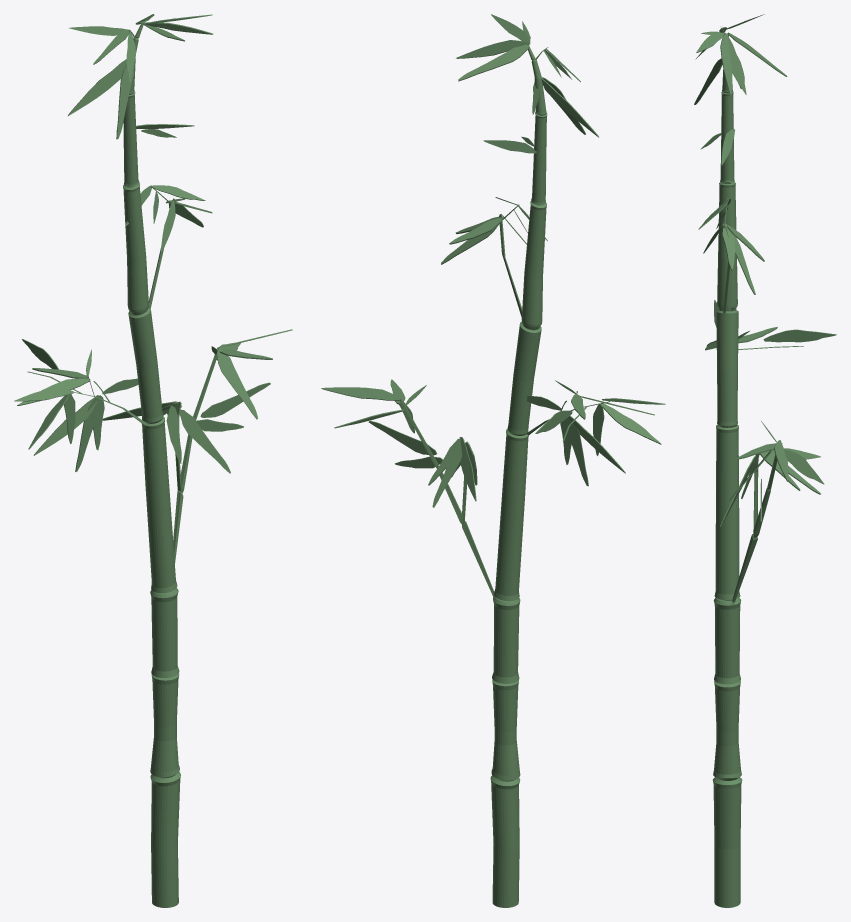
Rendered from 1bamboo.fbx.
3 views of the same model, side by side, from view 1: azimuth 30°, elevation 25°; view 2: azimuth 150°, elevation 25°; view 3: azimuth 270°, elevation 25° (orthographic). The views are drawn at different scales.
Visible parts, largest first — view 1: Cylinder.000; view 2: Cylinder.000; view 3: Cylinder.000.
Part boxes in pixels (<box>): Cylinder.000: <box>14,14,292,907</box>; Cylinder.000: <box>321,14,665,907</box>; Cylinder.000: <box>694,14,836,907</box>.
Bounding box in the file's own units: 2113 × 5719 × 852.
